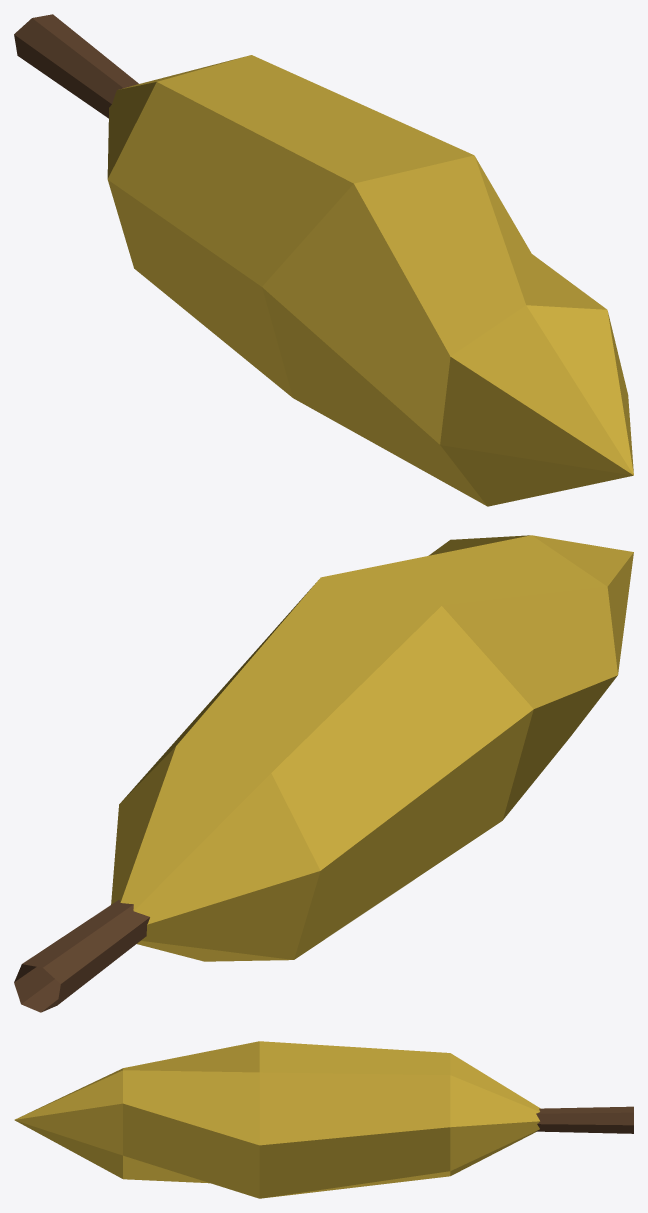
The model's file is growth_0.glb.
3 renders of one model, top to bottom at view 1: azimuth 30°, elevation 25°; view 2: azimuth 150°, elevation 25°; view 3: azimuth 270°, elevation 25°, orthographic. The views are drawn at different scales.
Parts seen in each view (by area): view 1: tree_02_growth_0; view 2: tree_02_growth_0; view 3: tree_02_growth_0.
Part boxes in pixels (x1,y1,x2,y2): tree_02_growth_0: [14, 14, 633, 506]; tree_02_growth_0: [14, 535, 633, 1012]; tree_02_growth_0: [14, 1041, 633, 1198].
Bounding box in the file's own units: 3.81 × 3.54 × 14.56.
